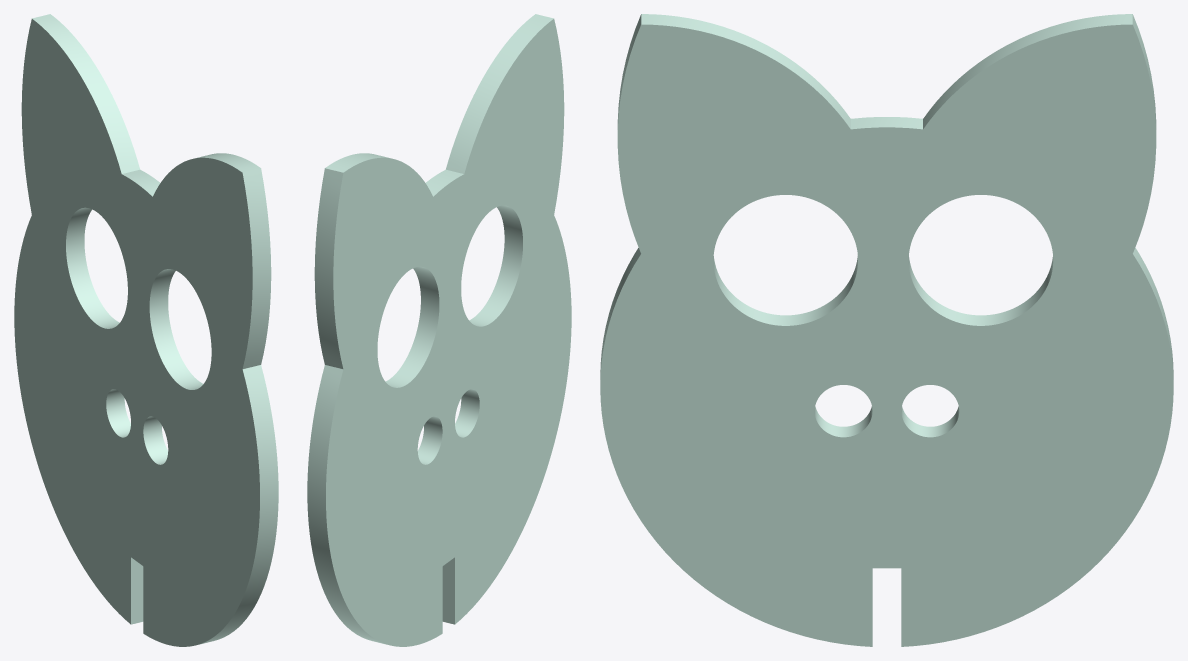
The model's file is expected.gltf.
3 renders of one model, left to right at view 1: azimuth 30°, elevation 25°; view 2: azimuth 150°, elevation 25°; view 3: azimuth 270°, elevation 25°, orthographic. The views are drawn at different scales.
Parts seen in each view (by area): view 1: Renderer Node; view 2: Renderer Node; view 3: Renderer Node.
Boxes of the visible parts, box(x1,y1,x2,y2) form: Renderer Node: box(14, 14, 278, 646); Renderer Node: box(307, 14, 571, 646); Renderer Node: box(600, 14, 1173, 646).
Size of the model in its own units: 0.0469 by 1.29 by 1.08.
